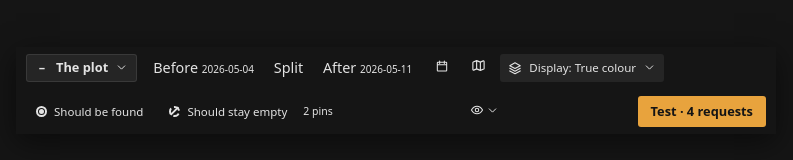
Scenario: says the rules changed, in place of the outcome, and what went wrong in the engine’s words
Click the button with class "test". click: (702, 111)
box: [638,96,766,127]
Wait 300 ms
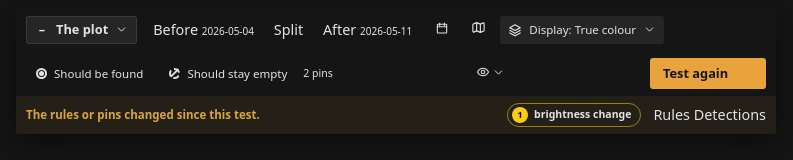
Now the text with class "outcome" reads "The rules or pins changed since this test.", box [26,107,260,122]
Now the button with class "test" reads "Test again", box [650,58,766,89]
